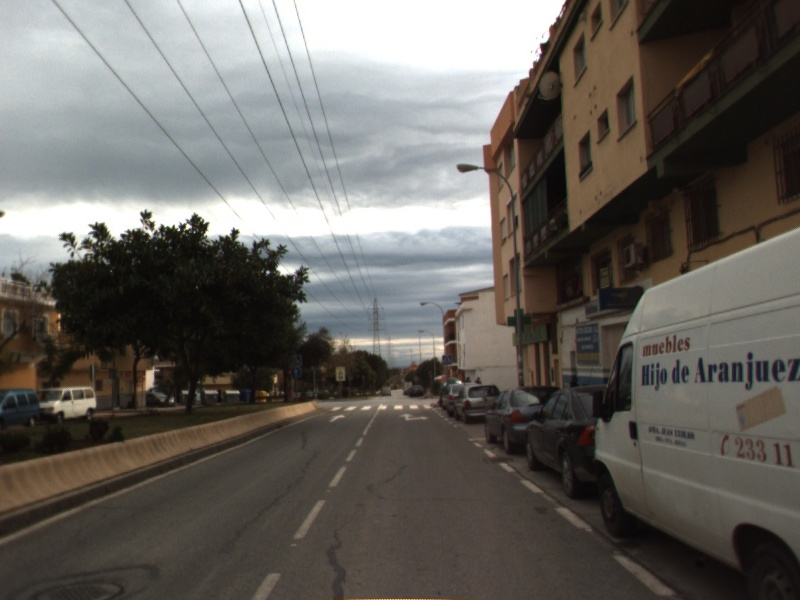STRAIGHT: (326, 412, 348, 424)
STRAIGHT_RIGHT: (397, 411, 431, 423)
